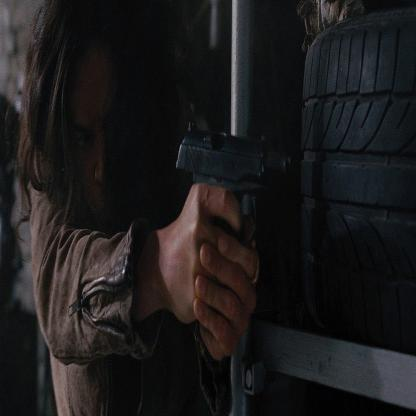gun: (167, 111, 301, 224)
